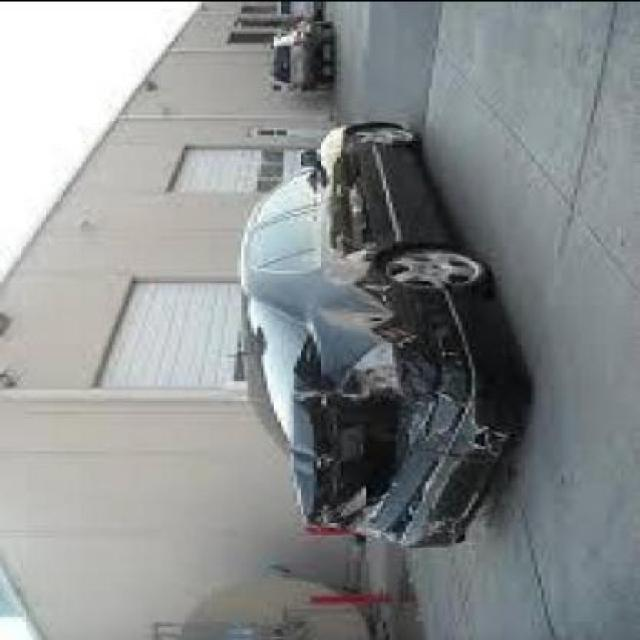damage: (291, 282, 515, 549)
